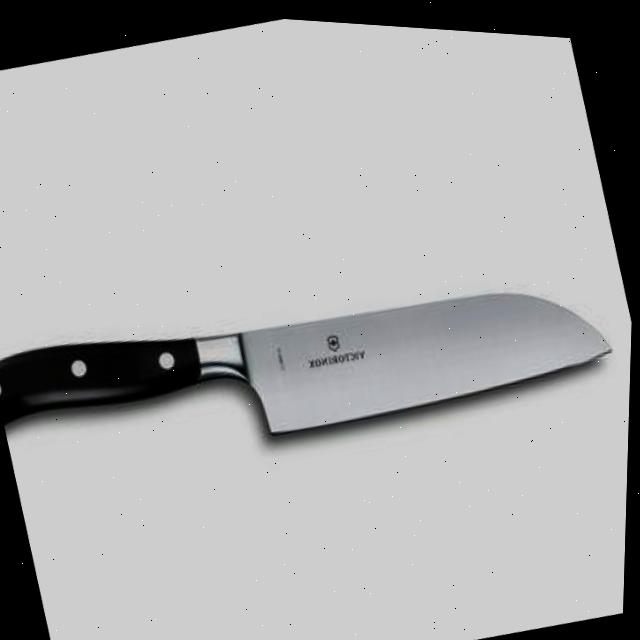knife: (0, 201, 622, 515)
